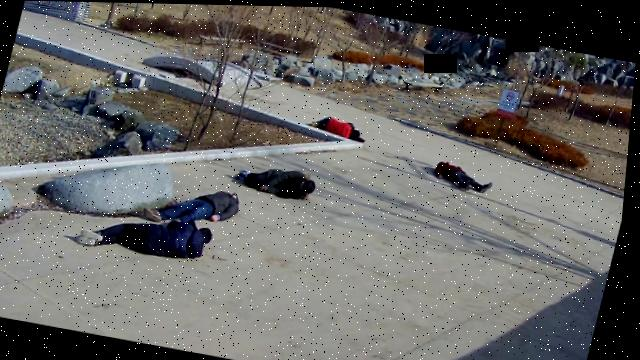fall: (74, 201, 225, 270), (145, 177, 248, 233), (231, 156, 324, 202), (431, 155, 502, 194), (303, 109, 373, 144)
